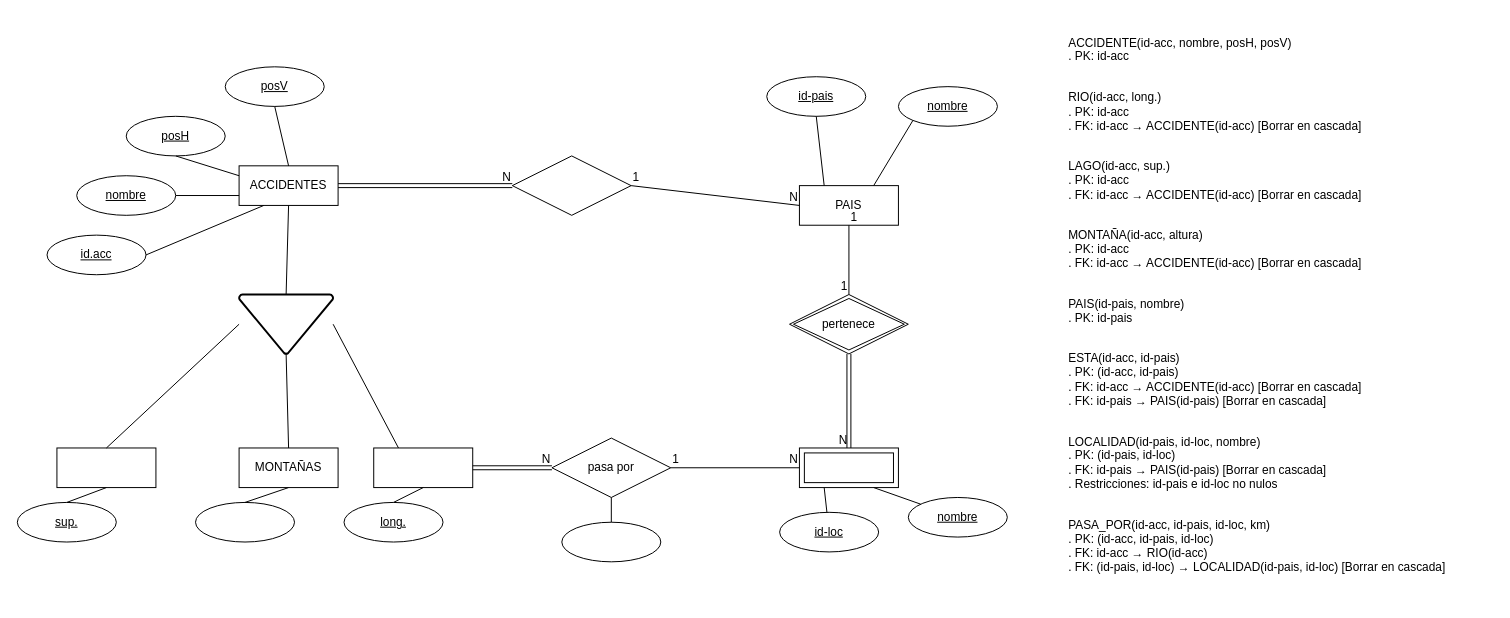
Image size: 1510x618. Some labels were removed from this diagram. The centre of each missing label's shape, as x and y in pixels:
altura: [245,521]
está: [571,185]
km: [611,541]
LAGOS: [106,467]
LOCALIDAD: [848,467]
RÍOS: [423,467]
T.D.: [286,323]
